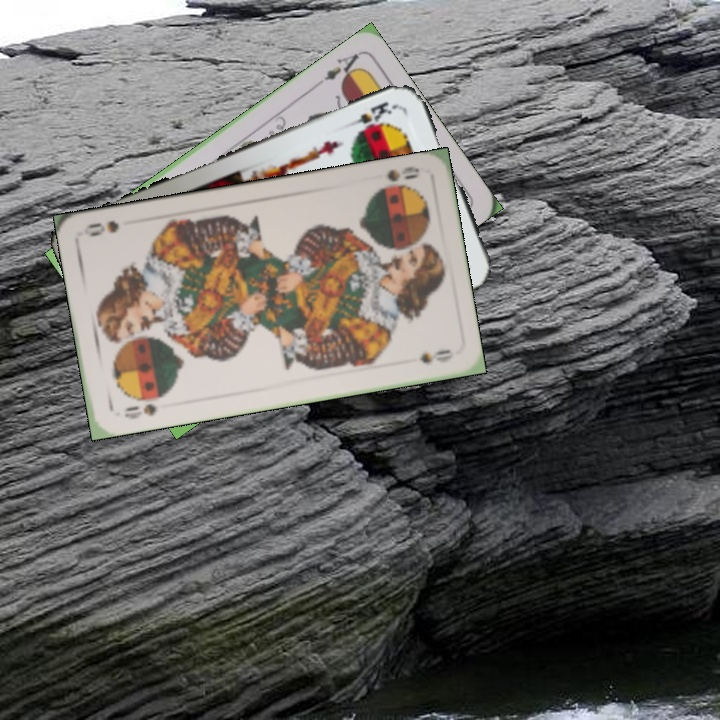EA: (311, 49, 364, 90)
SK: (342, 97, 400, 130)
SO: (368, 162, 422, 195), (120, 399, 159, 422)
